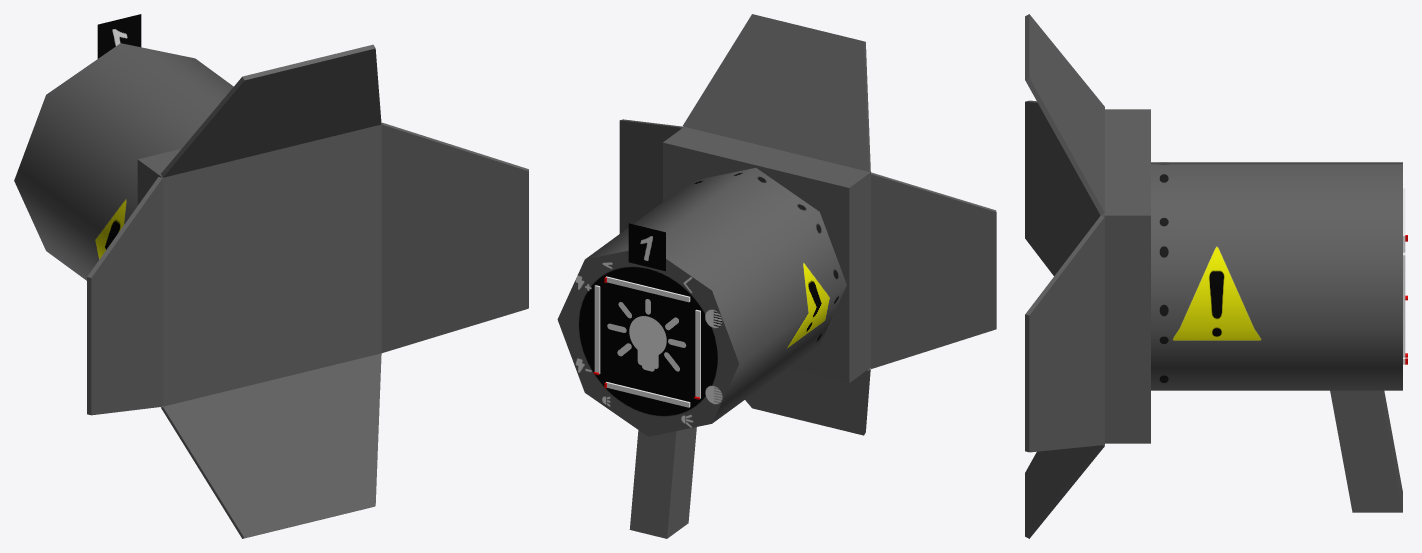
The model's file is Spotlight.fbx.
The picture shows the model from 3 angles, left to right: view 1: azimuth 30°, elevation 25°; view 2: azimuth 150°, elevation 25°; view 3: azimuth 270°, elevation 25°; orthographic projection. The views are drawn at different scales.
Parts seen in each view (by area): view 1: Spotlight; view 2: Spotlight, Indicator; view 3: Spotlight.
Boxes of the visible parts, <box> form: Spotlight: <box>14,14,528,538</box>; Spotlight: <box>557,14,996,538</box>; Indicator: <box>607,299,686,371</box>; Spotlight: <box>1025,14,1407,538</box>.
Size of the model in its own units: 20.21 by 20.21 by 15.2.
